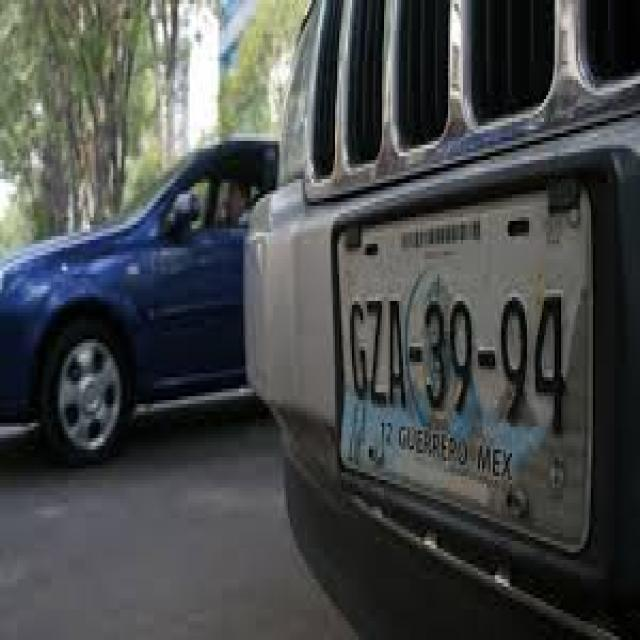placa: (335, 271, 588, 437)
